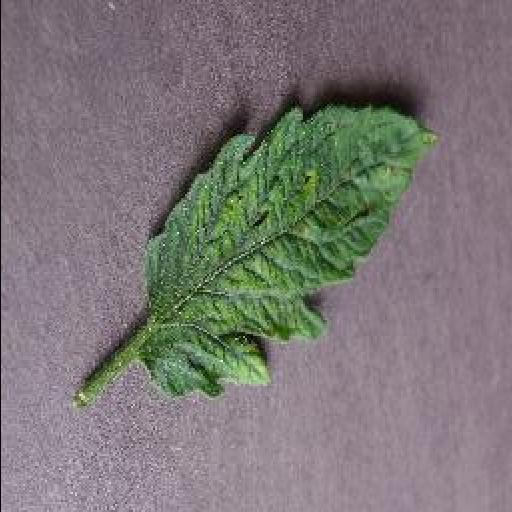disease_tomato: (139, 102, 445, 402)
